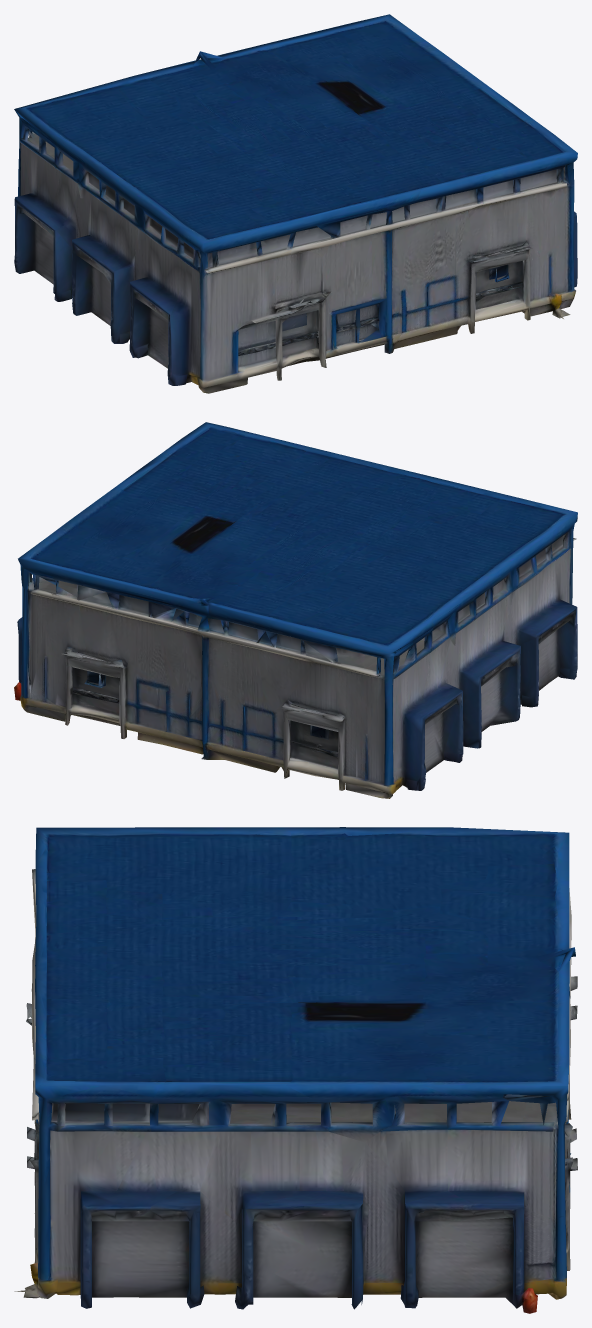
File: warehouse.glb
3 renders of one model, top to bottom at view 1: azimuth 30°, elevation 25°; view 2: azimuth 150°, elevation 25°; view 3: azimuth 270°, elevation 25°, orthographic. The views are drawn at different scales.
Visible parts, largest first — view 1: warehouse-0; view 2: warehouse-0; view 3: warehouse-0.
Boxes of the visible parts, x1,y1,x2,y2 form: warehouse-0: [14, 14, 577, 393]; warehouse-0: [14, 422, 577, 798]; warehouse-0: [14, 827, 577, 1313].
Size of the model in its own units: 1 by 0.3818 by 0.843.
Materials: 1 (1 with a texture image).
